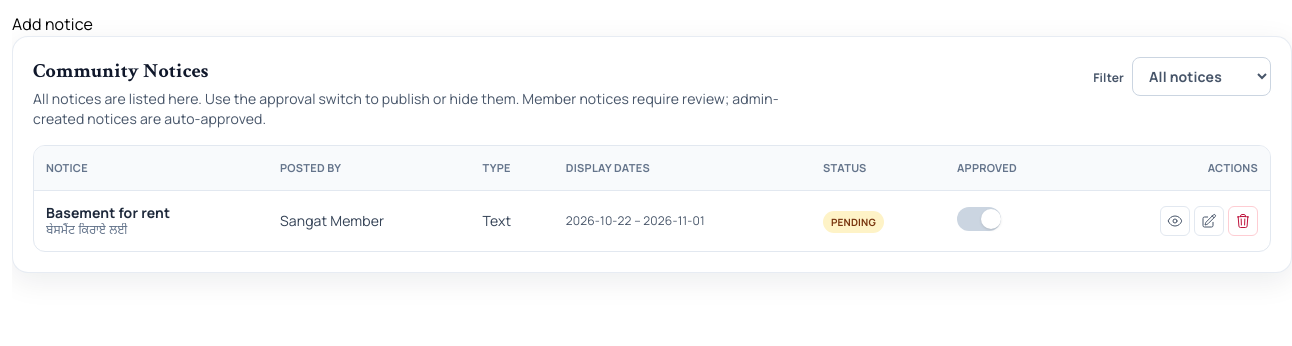
Test: approval toggle publishes a pending notice through the moderation API
Step 1. Click the switch named "Approve Basement for rent" → click(979, 218), box [957,206,1001,230]
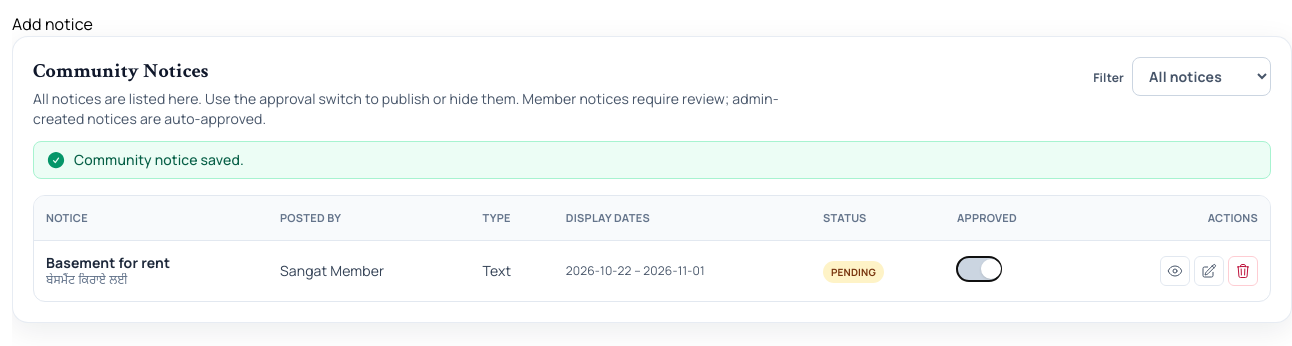
expect the text "Community notice saved." is shown: met, box [74,150,244,170]
